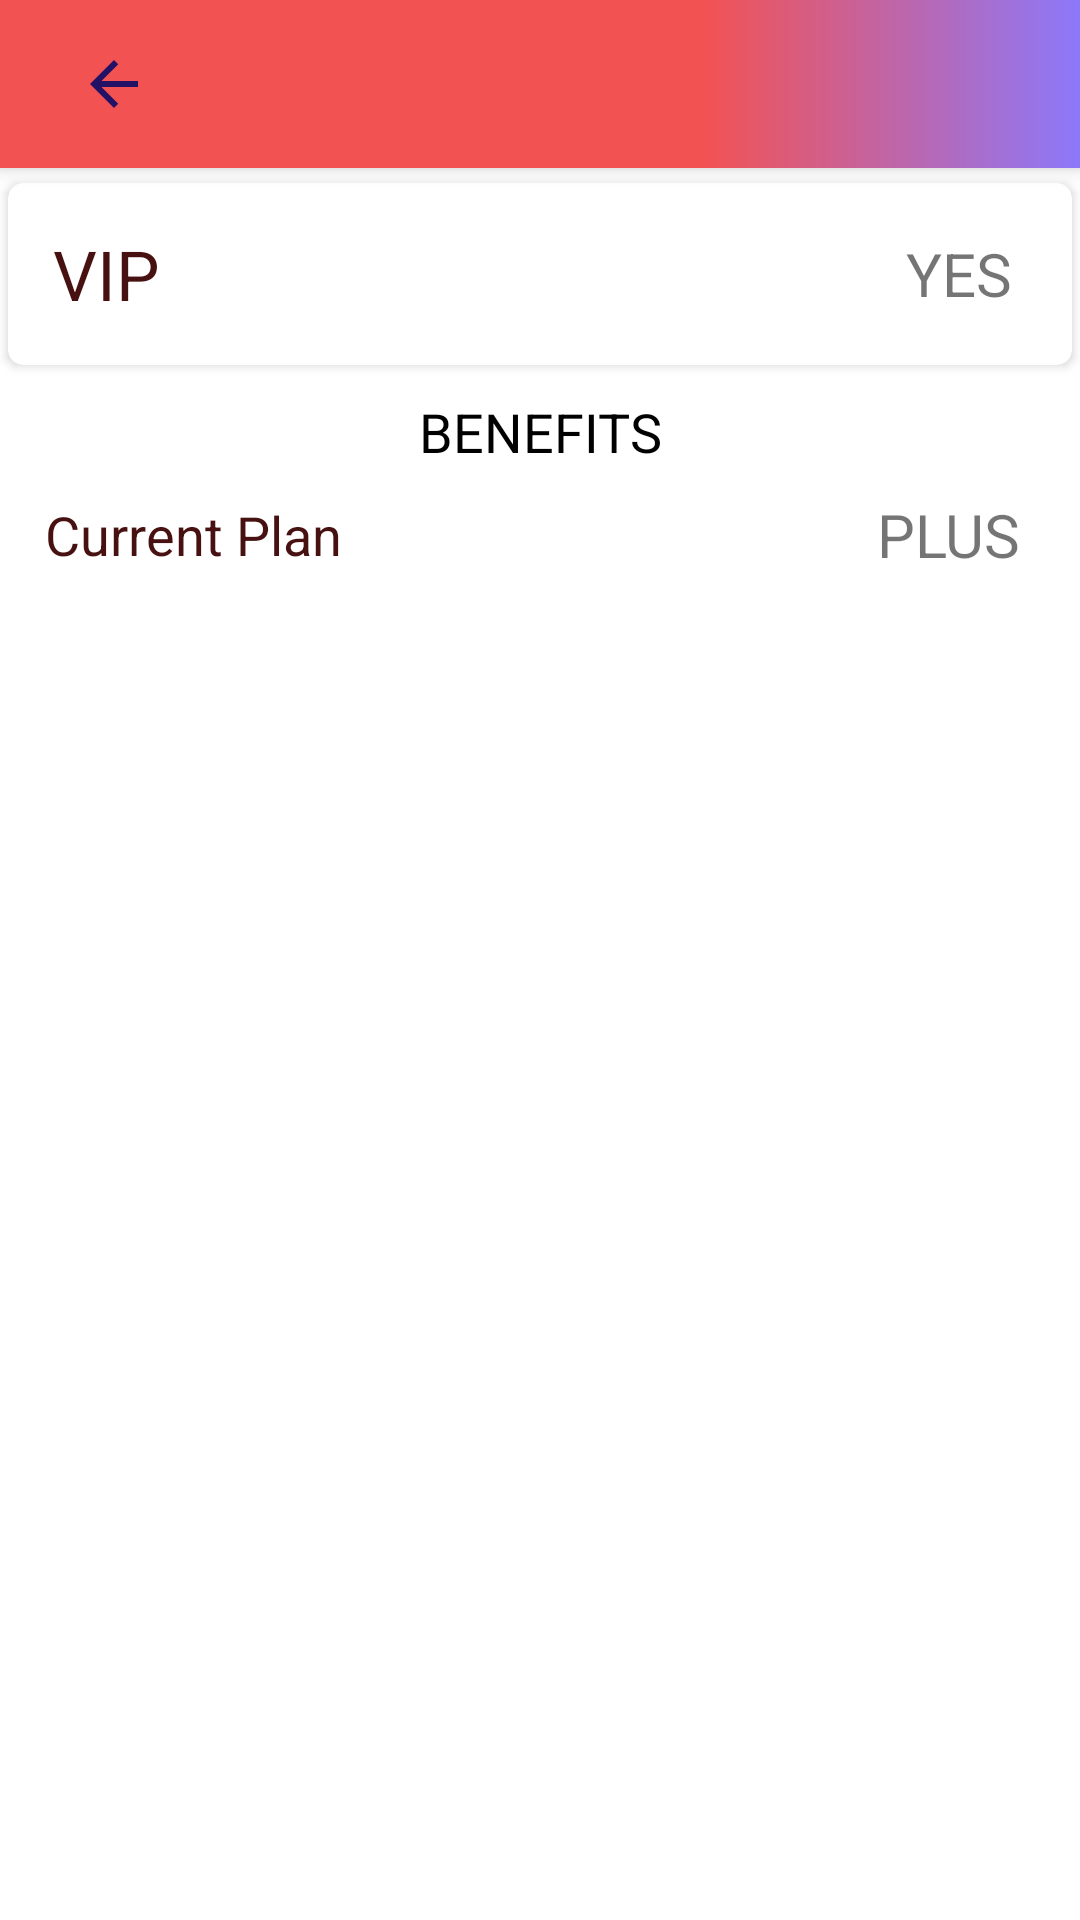

Icon bounding boxes for this 1080*1920 phone screenshot, format (x1, y1, x2, y2):
arrow back: (90, 60, 138, 108)
